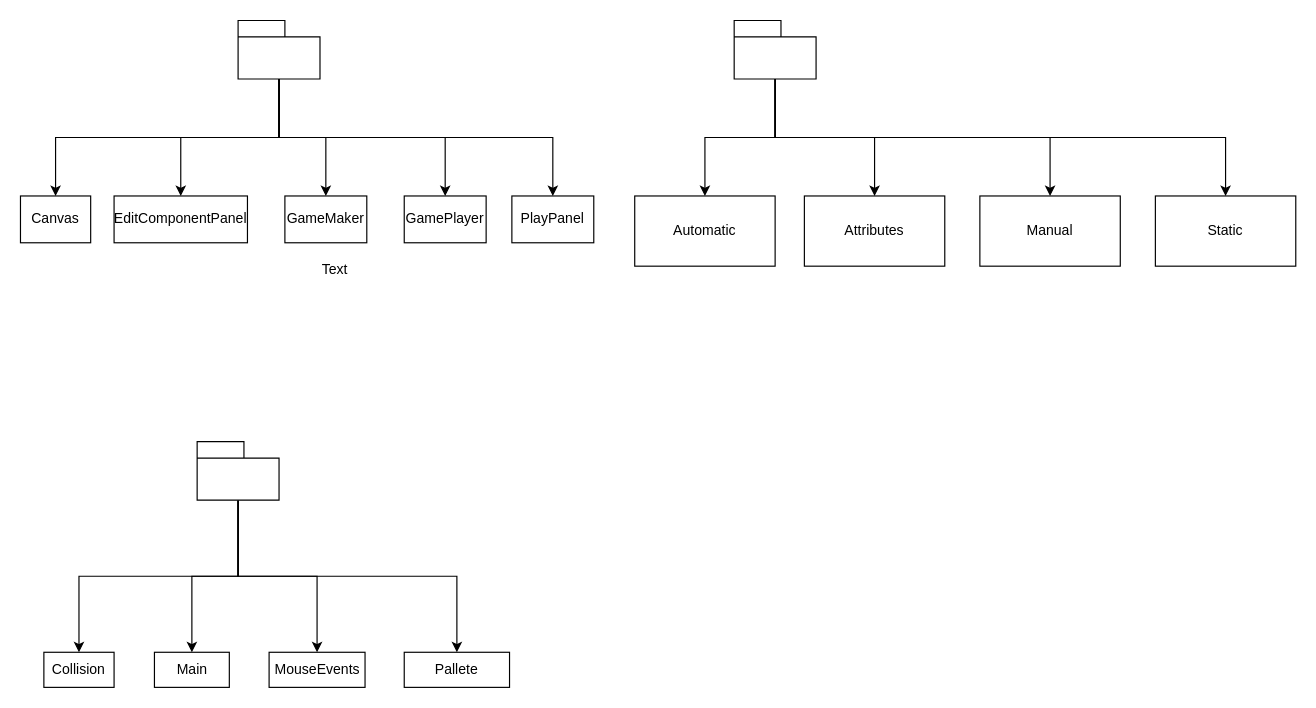
This 1316x708 diagram has some shape labels left out. The shapes that lost their labels are listed below. From the top down, each one's centre as x and y in pixels, then its label:
At point (278, 49): "GamePanels".
At point (774, 49): "Component".
At point (237, 470): "Game".
